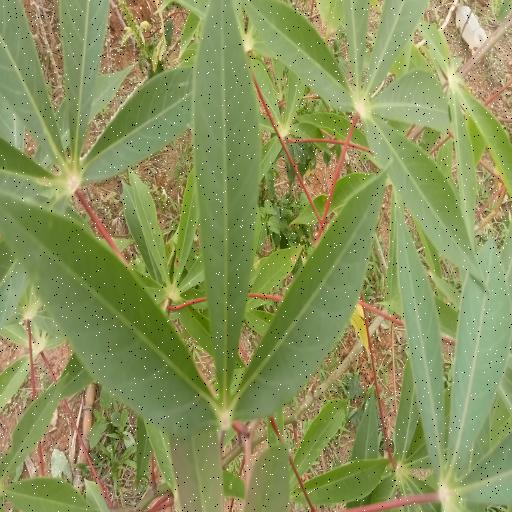Cassava_Healthy: (0, 1, 387, 431), (248, 0, 494, 282)
